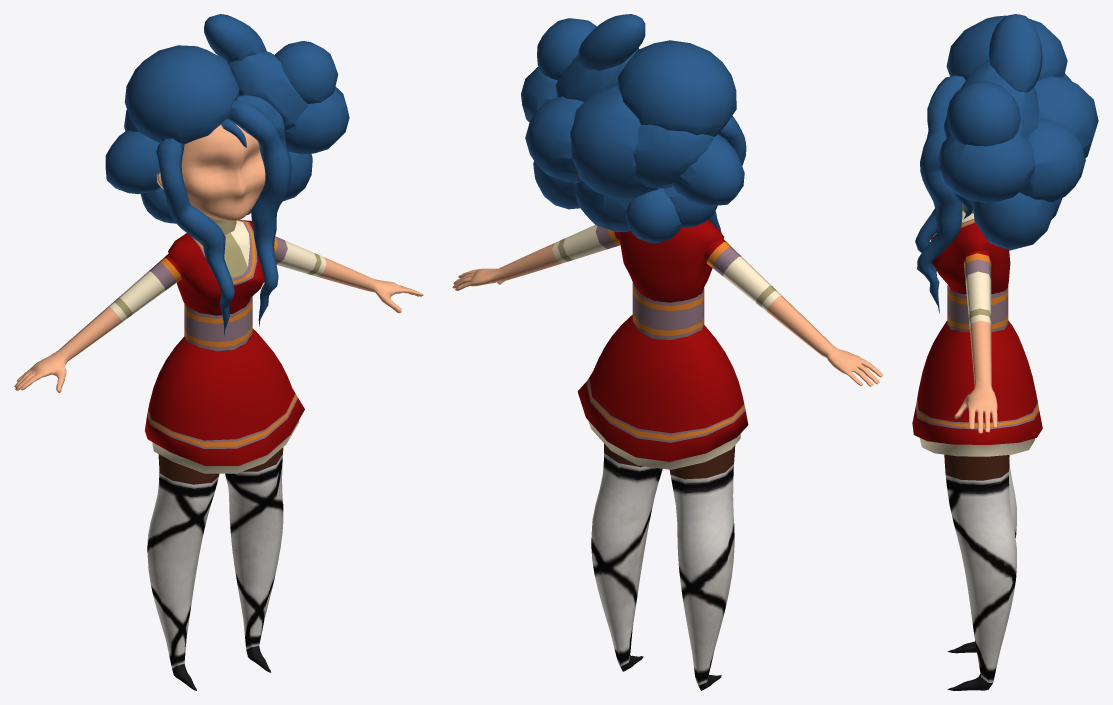
The model's file is Vihra_test_01.fbx.
The picture shows the model from 3 angles, left to right: view 1: azimuth 30°, elevation 25°; view 2: azimuth 150°, elevation 25°; view 3: azimuth 270°, elevation 25°; orthographic projection. The views are drawn at different scales.
Parts seen in each view (by area): view 1: hair, dress, Legs, Arms, face; view 2: hair, dress, Legs, Arms; view 3: hair, dress, Legs, Arms.
Part boxes in pixels (<box>): hair: <box>105,14,349,336</box>; dress: <box>145,220,304,473</box>; Legs: <box>147,447,283,690</box>; Arms: <box>14,236,423,392</box>; face: <box>156,124,265,221</box>; hair: <box>521,14,746,243</box>; dress: <box>577,220,748,469</box>; Legs: <box>591,443,735,690</box>; Arms: <box>452,225,883,386</box>; hair: <box>915,14,1098,313</box>; dress: <box>912,203,1042,456</box>; Legs: <box>944,454,1016,690</box>; Arms: <box>954,250,997,433</box>.
Bounding box in the file's own units: 114 × 173 × 43.78.
Materials: 10 (10 with a texture image).
